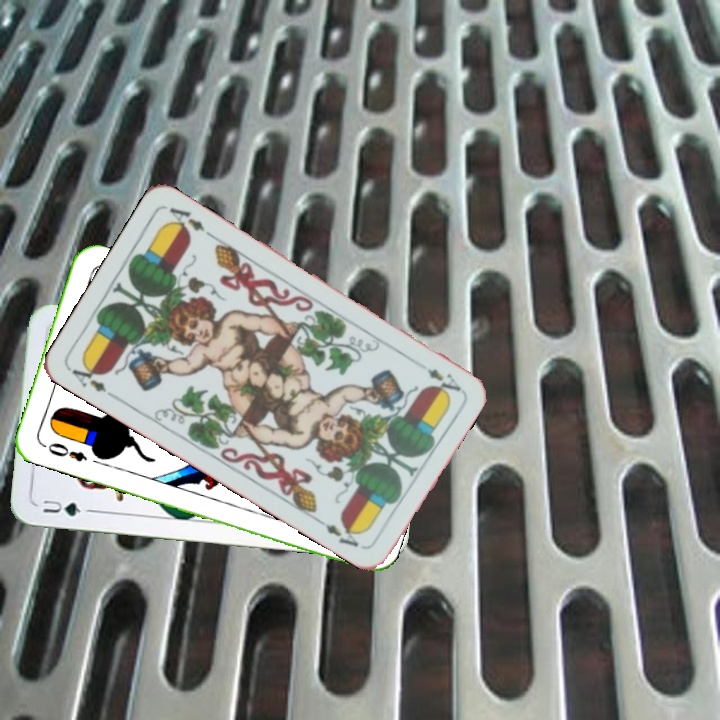EA: (67, 357, 120, 402), (423, 364, 464, 394)
EO: (44, 438, 90, 464)
GU: (39, 495, 94, 519)
